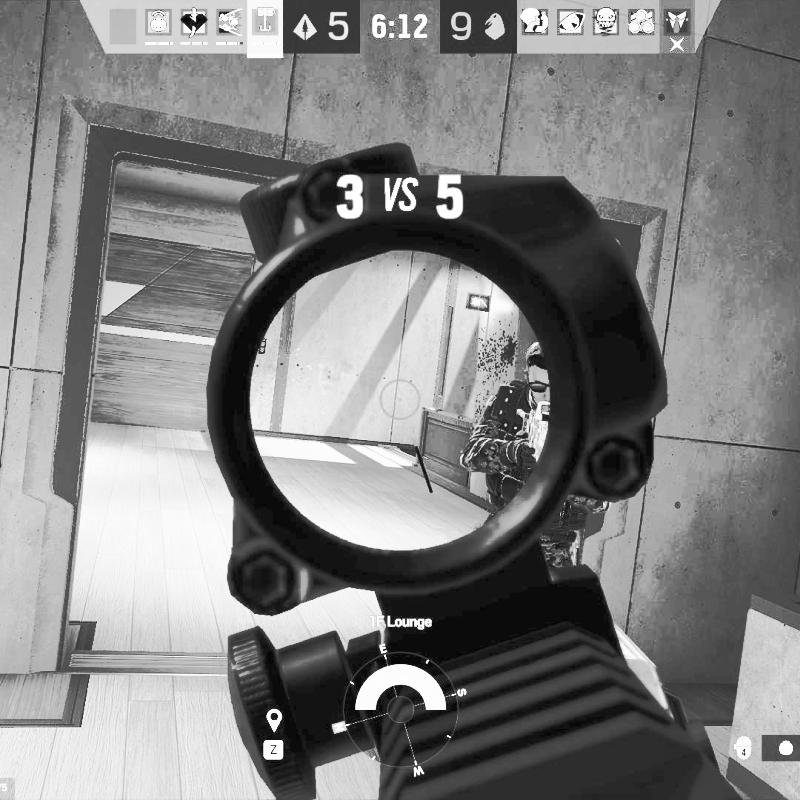Character: (457, 339, 611, 583)
Head: (526, 339, 556, 416)
